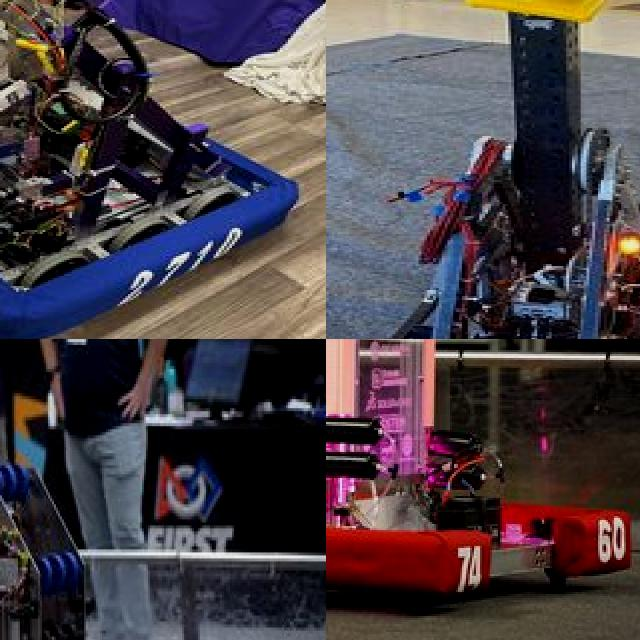FRC-Robots: (0, 0, 326, 339), (326, 0, 640, 339), (326, 339, 637, 613), (0, 429, 165, 640)
